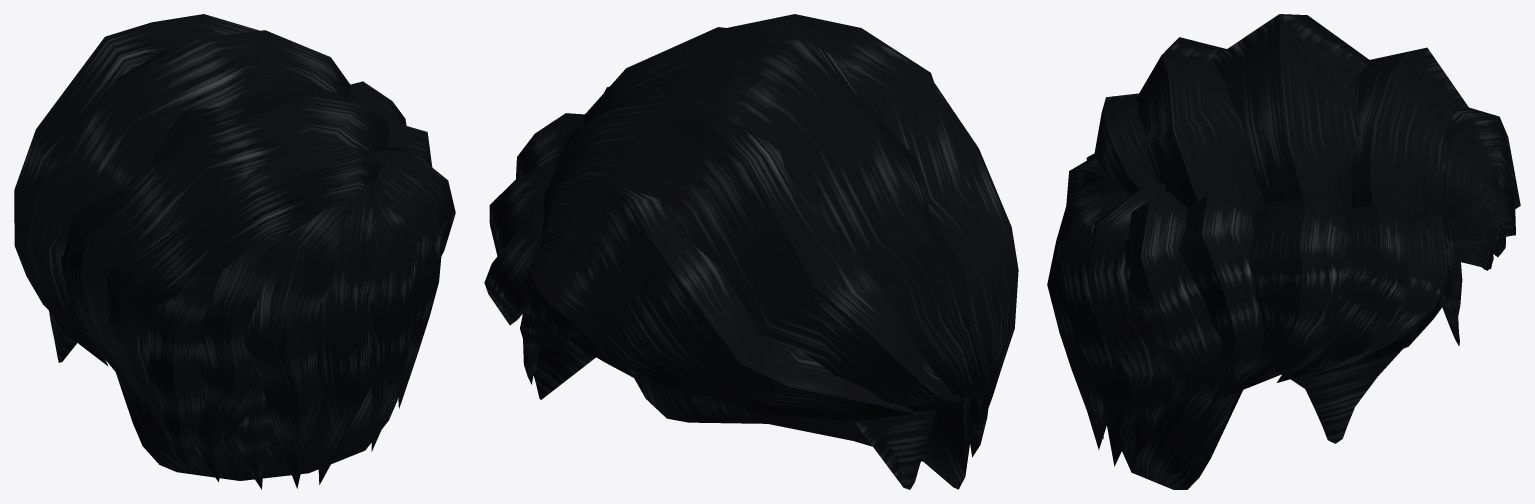
3 renders of one model, left to right at view 1: azimuth 30°, elevation 25°; view 2: azimuth 150°, elevation 25°; view 3: azimuth 270°, elevation 25°, orthographic. The views are drawn at different scales.
Parts seen in each view (by area): view 1: geometry_0; view 2: geometry_0; view 3: geometry_0.
Part boxes in pixels (x1,y1,x2,y2): geometry_0: (14, 14, 455, 489); geometry_0: (484, 14, 1018, 489); geometry_0: (1047, 14, 1520, 489).
Bounding box in the file's own units: 1.52 × 1.52 × 1.56.
Materials: 1 (1 with a texture image).
